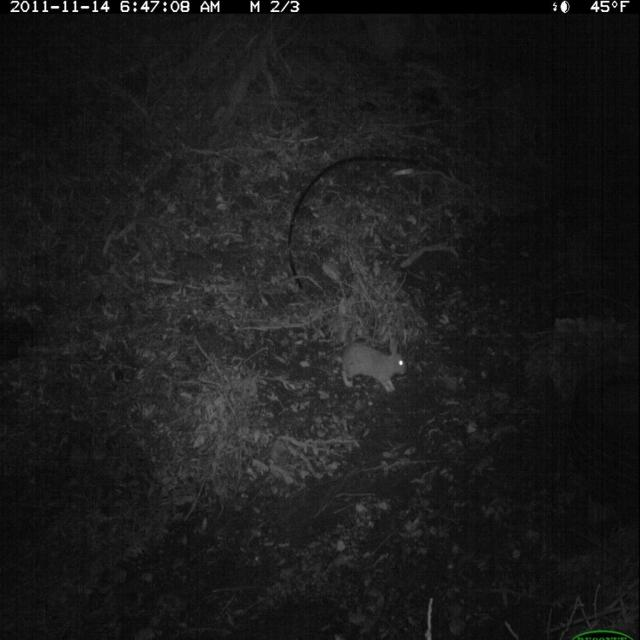rabbit: (339, 329, 410, 401)
